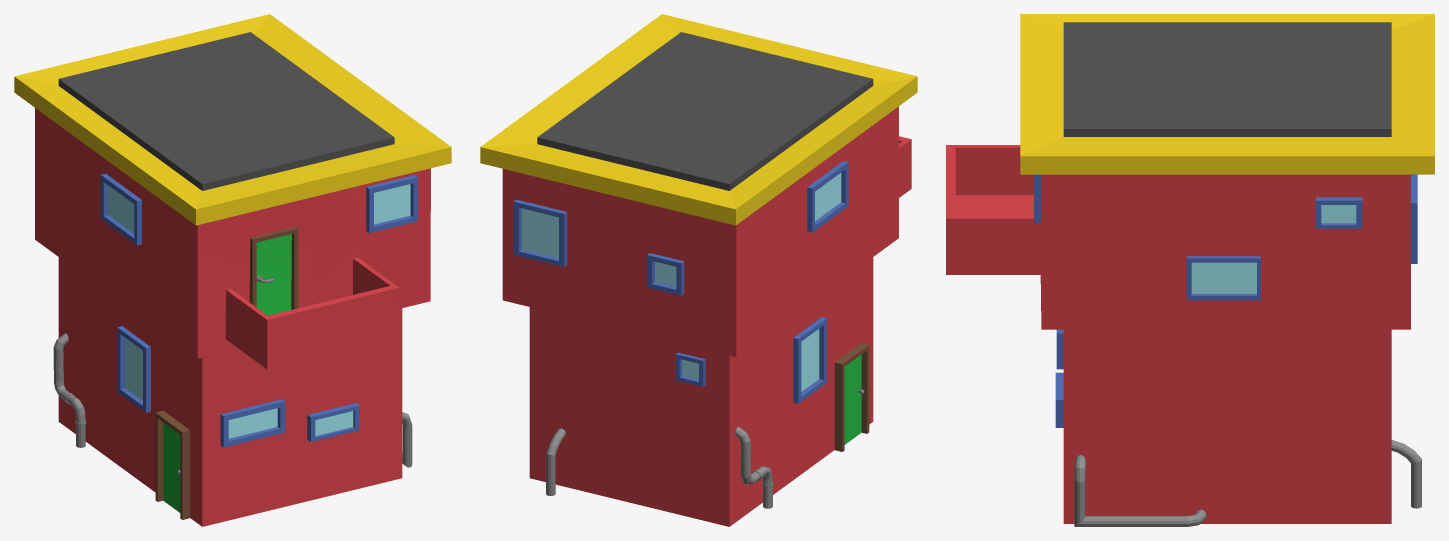
File: Small_Favelahouse2.fbx
3 views of the same model, side by side, from view 1: azimuth 30°, elevation 25°; view 2: azimuth 150°, elevation 25°; view 3: azimuth 270°, elevation 25° (orthographic). The views are drawn at different scales.
Visible parts, largest first — view 1: Small_Favelahouse.001; view 2: Small_Favelahouse.001; view 3: Small_Favelahouse.001.
Boxes of the visible parts, x1,y1,x2,y2 form: Small_Favelahouse.001: (14, 14, 451, 526); Small_Favelahouse.001: (480, 14, 917, 526); Small_Favelahouse.001: (946, 14, 1434, 526).
Size of the model in its own units: 6101 by 7817 by 8863.
